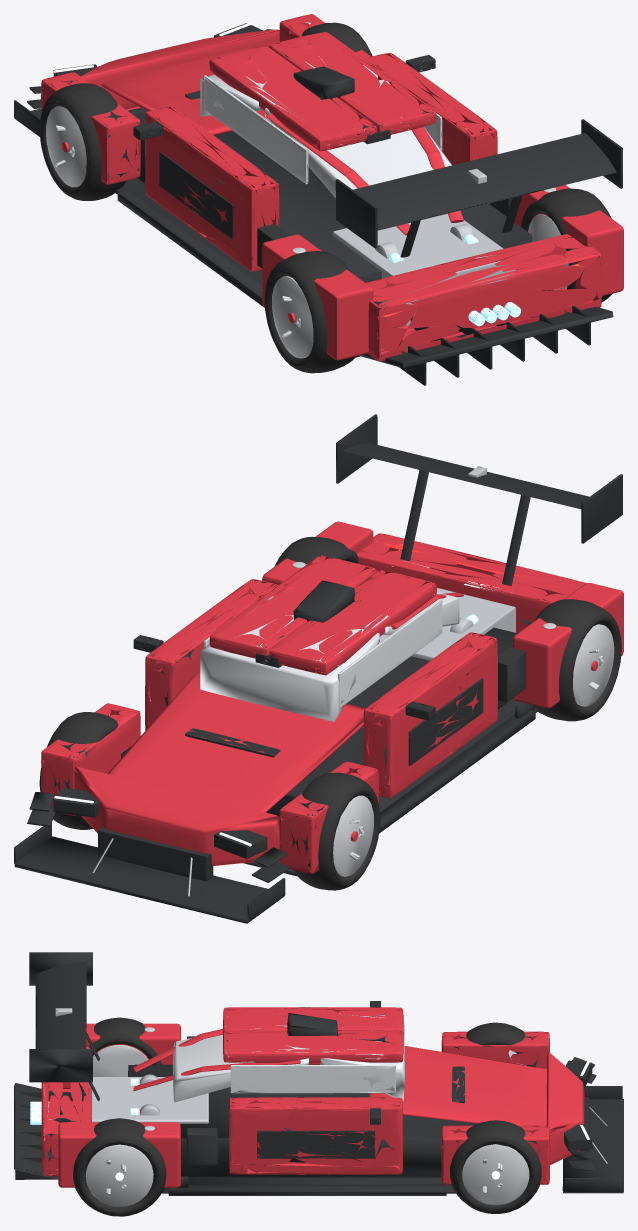
Rendered from complete-gt3_supercar.glb.
3 views of the same model, one above another, from view 1: azimuth 30°, elevation 25°; view 2: azimuth 150°, elevation 25°; view 3: azimuth 270°, elevation 25° (orthographic). The views are drawn at different scales.
Parts seen in each view (by area): view 1: Hypercar_Roof_Canopy, Hypercar_Rear_Bumper, Hypercar_Chassis_Monocoque, Hypercar_Active_Rear_Wing, Hypercar_Door_Butterfly_Left, Hypercar_Wheel_RL, Hypercar_Wheel_FL, Hypercar_Rear_Diffuser, Hypercar_Rear_Haunch_Left, Hypercar_Door_Butterfly_Right, Hypercar_Front_Bumper_Fascia, Hypercar_Hood_Vented (+7 smaller); view 2: Hypercar_Roof_Canopy, Hypercar_Hood_Vented, Hypercar_Front_Bumper_Fascia, Hypercar_Door_Butterfly_Left, Hypercar_Front_Splitter, Hypercar_Active_Rear_Wing, Hypercar_Rear_Bumper, Hypercar_Chassis_Monocoque, Hypercar_Wheel_FL, Hypercar_Wheel_RL, Hypercar_Rear_Haunch_Left, Hypercar_Door_Butterfly_Right (+6 smaller); view 3: Hypercar_Roof_Canopy, Hypercar_Door_Butterfly_Right, Hypercar_Chassis_Monocoque, Hypercar_Hood_Vented, Hypercar_Active_Rear_Wing, Hypercar_Wheel_RR, Hypercar_Wheel_FR, Hypercar_Front_Splitter, Hypercar_Rear_Haunch_Right, Hypercar_Front_Bumper_Fascia, Hypercar_Rocker_Skirt_Right, Hypercar_Rear_Bumper (+6 smaller).
Part boxes in pixels (x1,y1,x2,y2): Hypercar_Roof_Canopy: [200, 32, 463, 235]; Hypercar_Rear_Bumper: [365, 234, 601, 361]; Hypercar_Chassis_Monocoque: [115, 112, 532, 357]; Hypercar_Active_Rear_Wing: [335, 119, 622, 257]; Hypercar_Door_Butterfly_Left: [133, 106, 279, 271]; Hypercar_Wheel_RL: [264, 251, 356, 373]; Hypercar_Wheel_FL: [39, 83, 131, 200]; Hypercar_Rear_Diffuser: [359, 289, 613, 385]; Hypercar_Rear_Haunch_Left: [257, 224, 373, 360]; Hypercar_Door_Butterfly_Right: [365, 53, 497, 203]; Hypercar_Front_Bumper_Fascia: [53, 22, 279, 110]; Hypercar_Hood_Vented: [101, 46, 268, 135]; Hypercar_Roof_Canopy: [200, 555, 463, 721]; Hypercar_Hood_Vented: [108, 670, 365, 812]; Hypercar_Front_Bumper_Fascia: [53, 766, 281, 881]; Hypercar_Door_Butterfly_Left: [363, 632, 497, 797]; Hypercar_Front_Splitter: [14, 792, 289, 923]; Hypercar_Active_Rear_Wing: [336, 414, 622, 586]; Hypercar_Rear_Bumper: [357, 533, 586, 633]; Hypercar_Chassis_Monocoque: [87, 586, 538, 876]; Hypercar_Wheel_FL: [290, 772, 380, 890]; Hypercar_Wheel_RL: [534, 599, 621, 721]; Hypercar_Rear_Haunch_Left: [498, 582, 623, 708]; Hypercar_Door_Butterfly_Right: [133, 579, 277, 730]; Hypercar_Roof_Canopy: [133, 1007, 404, 1102]; Hypercar_Door_Butterfly_Right: [229, 1097, 403, 1174]; Hypercar_Chassis_Monocoque: [91, 1064, 477, 1193]; Hypercar_Hood_Vented: [368, 1046, 546, 1125]; Hypercar_Active_Rear_Wing: [29, 952, 99, 1100]; Hypercar_Wheel_RR: [73, 1118, 166, 1216]; Hypercar_Wheel_FR: [450, 1120, 541, 1213]; Hypercar_Front_Splitter: [562, 1057, 623, 1193]; Hypercar_Rear_Haunch_Right: [58, 1122, 217, 1187]; Hypercar_Front_Bumper_Fascia: [546, 1051, 592, 1164]; Hypercar_Rocker_Skirt_Right: [163, 1176, 446, 1195]; Hypercar_Rear_Bumper: [30, 1047, 91, 1176].
Size of the model in its own units: 2.11 by 1.27 by 4.38.
